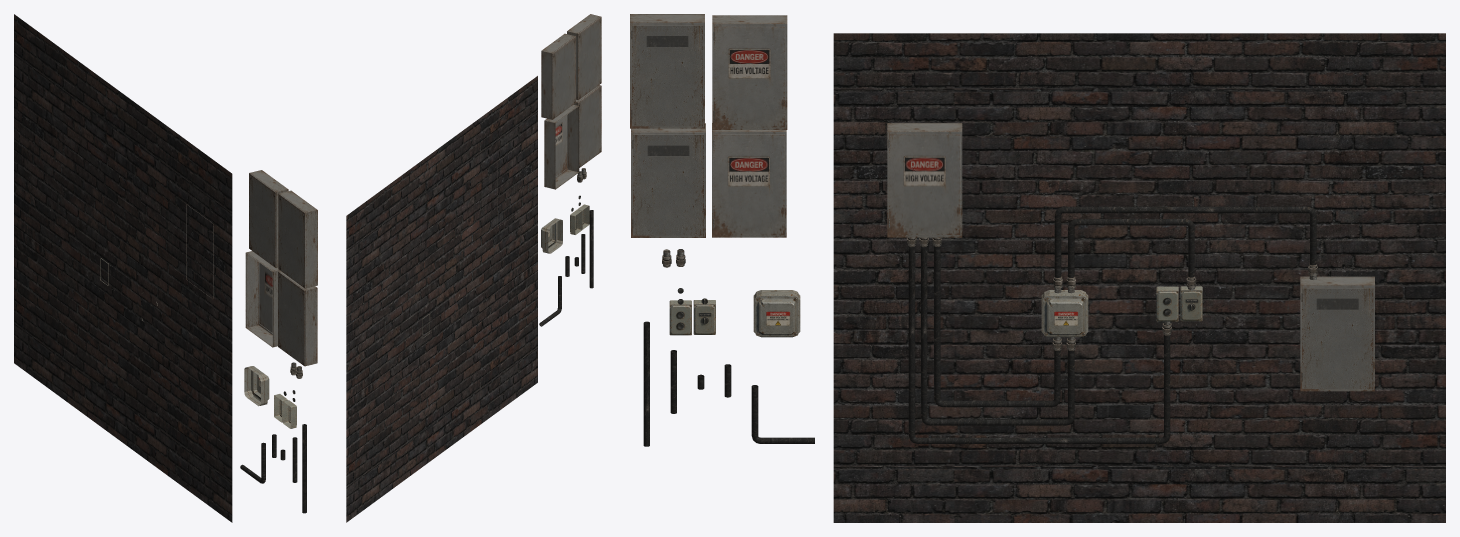
File: simple_electrical_environment.glb
The picture shows the model from 3 angles, left to right: view 1: azimuth 30°, elevation 25°; view 2: azimuth 150°, elevation 25°; view 3: azimuth 270°, elevation 25°; orthographic projection. The views are drawn at different scales.
Parts seen in each view (by area): view 1: WallTest, BoxWithGlassFrame, OneMeshBoxGlassFrame, OneMeshBoxHGVoltage, BoxWithHGVoltage, SmallBoxHGVoltage.001, 1m, PushButtonBox; view 2: WallTest, BoxWithHGVoltage, OneMeshBoxHGVoltage, BoxWithGlassFrame, OneMeshBoxGlassFrame, SmallBoxHGVoltage.001, 1m; view 3: WallTest, OneMeshBoxHGVoltage.001, OneMeshBoxGlassFrame.001, OneMeshBoxGlassFrame, OneMeshBoxHGVoltage, Cylinder.042, Cylinder.040, SmallBoxHGVoltage.001, SmallBoxHGVoltage, BoxWithGlassFrame, BoxWithHGVoltage, 1m.001 (+2 smaller).
Part boxes in pixels (x1,y1,x2,y2): WallTest: (14, 14, 232, 522); BoxWithGlassFrame: (278, 190, 317, 288); OneMeshBoxGlassFrame: (278, 271, 317, 366); OneMeshBoxHGVoltage: (245, 251, 280, 347); BoxWithHGVoltage: (249, 170, 288, 267); SmallBoxHGVoltage.001: (244, 366, 269, 406); 1m: (302, 424, 306, 513); PushButtonBox: (283, 400, 296, 428); WallTest: (346, 76, 537, 522); BoxWithHGVoltage: (541, 33, 575, 119); OneMeshBoxHGVoltage: (544, 104, 579, 189); BoxWithGlassFrame: (567, 14, 601, 100); OneMeshBoxGlassFrame: (574, 85, 601, 167); SmallBoxHGVoltage.001: (541, 218, 562, 253); 1m: (589, 210, 593, 288); WallTest: (833, 33, 1445, 522); OneMeshBoxHGVoltage.001: (887, 123, 962, 237); OneMeshBoxGlassFrame.001: (1300, 276, 1374, 391); OneMeshBoxGlassFrame: (631, 123, 705, 237); OneMeshBoxHGVoltage: (712, 123, 786, 237); Cylinder.042: (713, 26, 785, 127); Cylinder.040: (631, 25, 702, 126); SmallBoxHGVoltage.001: (753, 290, 800, 337); SmallBoxHGVoltage: (1041, 290, 1088, 337); BoxWithGlassFrame: (630, 14, 704, 128); BoxWithHGVoltage: (712, 15, 787, 129); 1m.001: (1118, 206, 1253, 213).
Bounding box in the file's own units: 0.1997 × 4.16 × 6.04.
6 materials, 6 textured.
